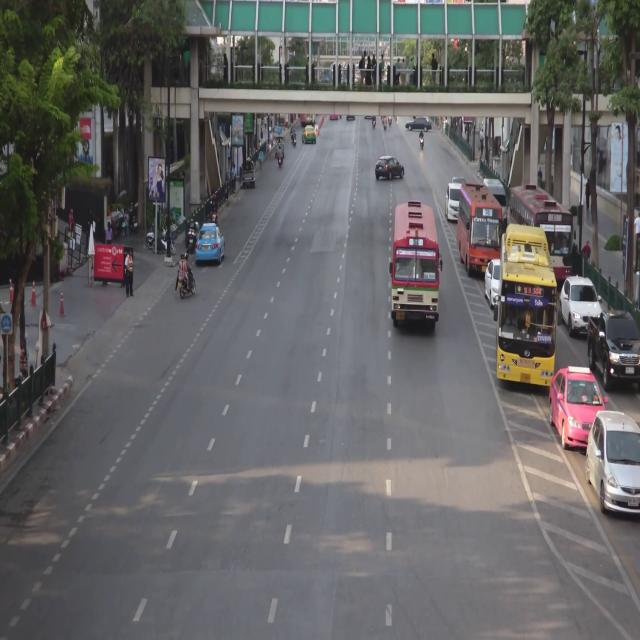bus: (501, 228, 554, 389), (509, 184, 572, 285), (393, 203, 439, 331), (459, 189, 502, 276)
car: (589, 413, 640, 513), (588, 309, 640, 390), (557, 279, 600, 335), (483, 179, 508, 226), (484, 261, 501, 310), (376, 156, 404, 181), (447, 183, 461, 223), (405, 117, 432, 132), (242, 162, 255, 187), (275, 135, 284, 157), (452, 176, 466, 186)
pedestrian: (124, 248, 134, 300), (68, 206, 75, 239), (106, 222, 113, 245), (225, 172, 230, 201), (232, 162, 236, 193), (258, 149, 263, 171), (538, 165, 542, 180), (481, 127, 484, 147), (272, 127, 275, 145), (260, 128, 263, 143), (264, 115, 267, 130)
taxi: (553, 365, 606, 452), (195, 223, 225, 262), (302, 126, 316, 143)
